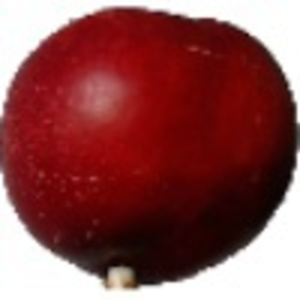nectarina: (1, 5, 300, 294)
